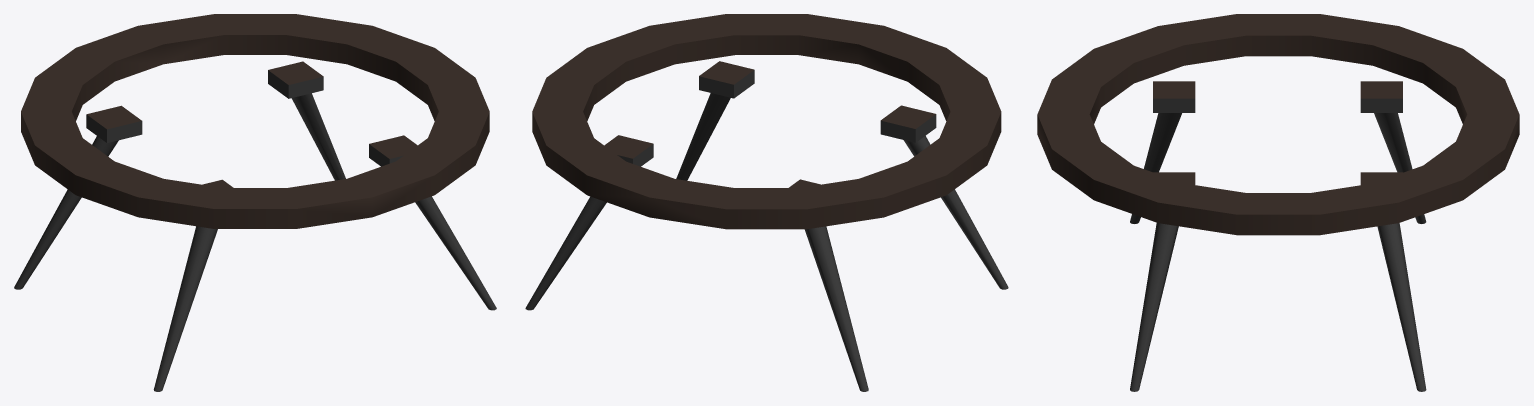
The model's file is ctable-3.glb.
The picture shows the model from 3 angles, left to right: view 1: azimuth 30°, elevation 25°; view 2: azimuth 150°, elevation 25°; view 3: azimuth 270°, elevation 25°; orthographic projection. The views are drawn at different scales.
Visible parts, largest first — view 1: CTable_3; view 2: CTable_3; view 3: CTable_3.
Boxes of the visible parts, x1,y1,x2,y2 form: CTable_3: (14,14,496,391); CTable_3: (525,14,1008,391); CTable_3: (1037,14,1519,391).
Bounding box in the file's own units: 119 × 52.86 × 120.
Materials: 1 (1 with a texture image).
